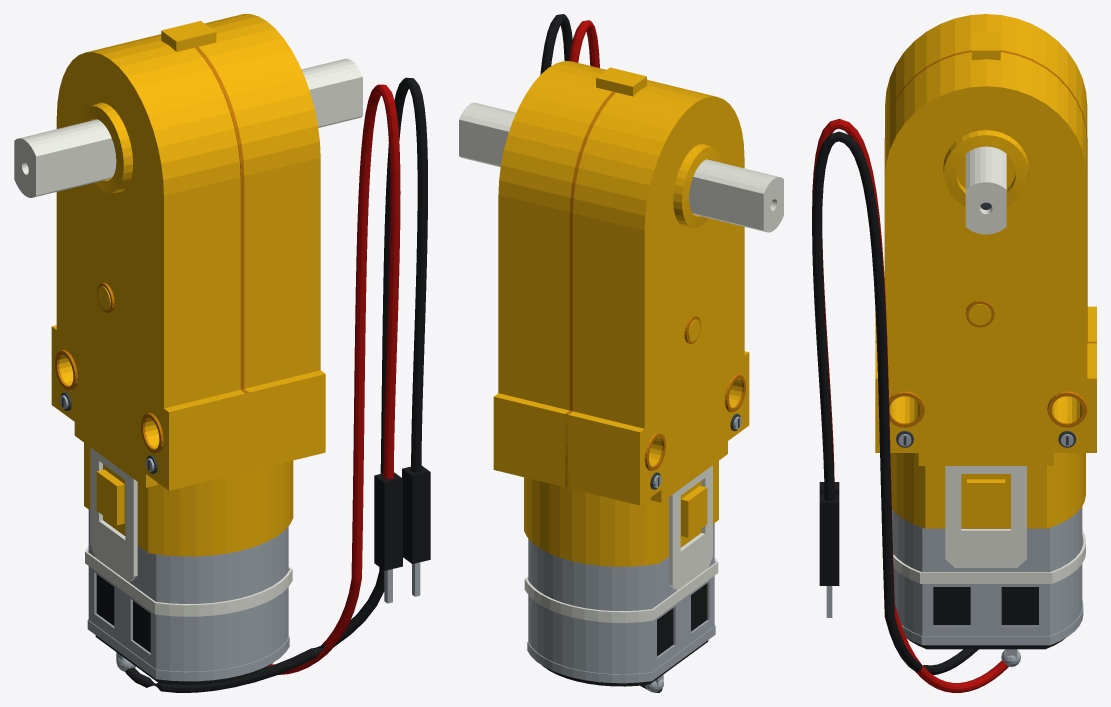
Rendered from motor_ghost.obj.
3 views of the same model, side by side, from view 1: azimuth 30°, elevation 25°; view 2: azimuth 150°, elevation 25°; view 3: azimuth 270°, elevation 25° (orthographic). The views are drawn at different scales.
Visible parts, largest first — view 1: motor_ghost; view 2: motor_ghost; view 3: motor_ghost.
Boxes of the visible parts, x1=… form: motor_ghost: x1=14, y1=14, x2=430, y2=692; motor_ghost: x1=459, y1=14, x2=783, y2=692; motor_ghost: x1=812, y1=14, x2=1096, y2=692.
Bounding box in the file's own units: 1.48 × 2.83 × 1.18.
